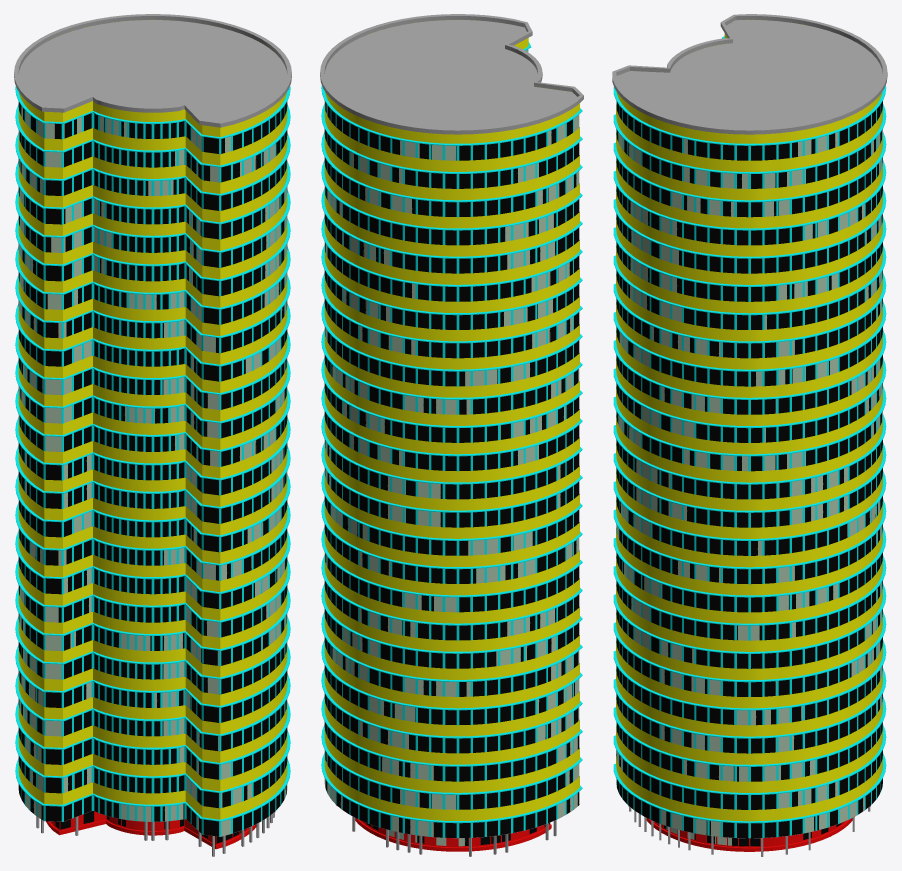
The model's file is SM_DistantBuilding03.fbx.
3 renders of one model, left to right at view 1: azimuth 30°, elevation 25°; view 2: azimuth 150°, elevation 25°; view 3: azimuth 270°, elevation 25°, orthographic.
Parts seen in each view (by area): view 1: SM_DistantBuilding03; view 2: SM_DistantBuilding03; view 3: SM_DistantBuilding03.
Part boxes in pixels (box(x1,y1,x2,y2)): SM_DistantBuilding03: box(14, 14, 291, 856); SM_DistantBuilding03: box(320, 14, 583, 856); SM_DistantBuilding03: box(612, 14, 887, 856).
Size of the model in its own units: 62 by 182 by 61.83.
